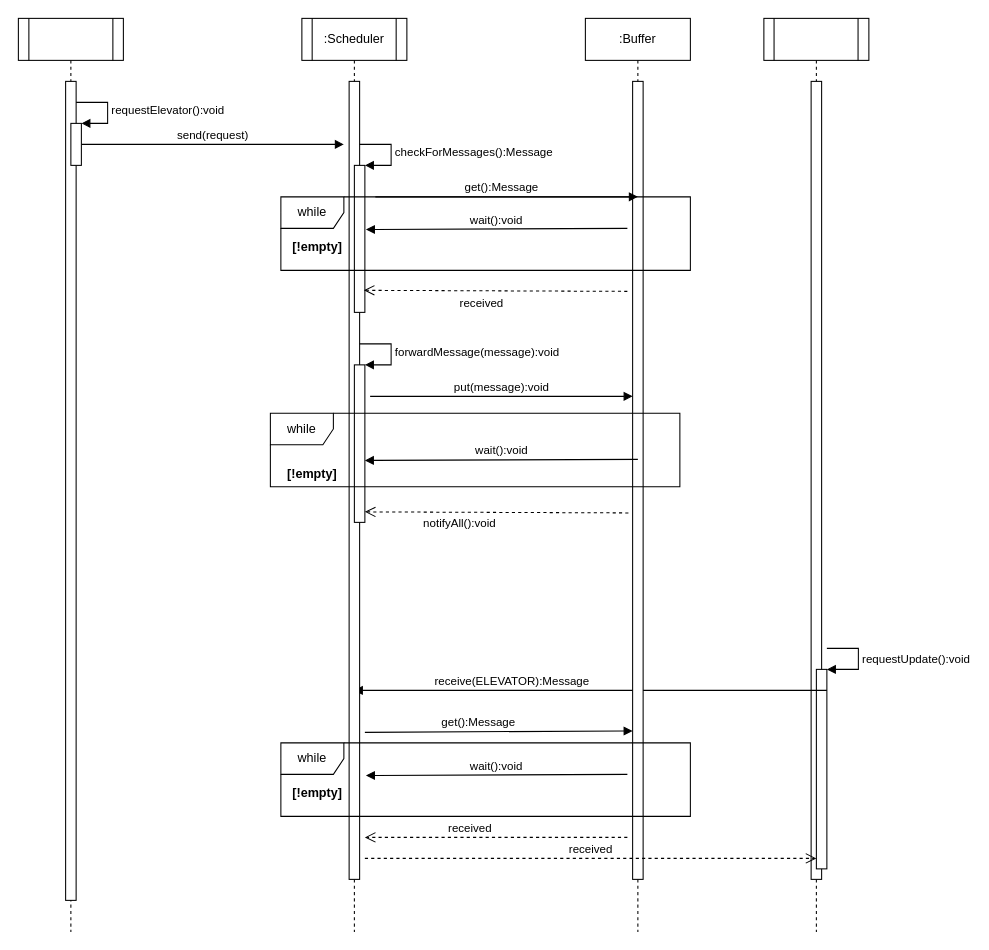
Some shapes in this 989 by 950 pixel diagram are drawn without their labels. The shapes that lost their labels are listed below. From the top down, each one's box as (x1, y1, x2, y2) in pixels, then its label:
(17, 17, 123, 932): :Floor
(763, 17, 869, 932): :Elevator
